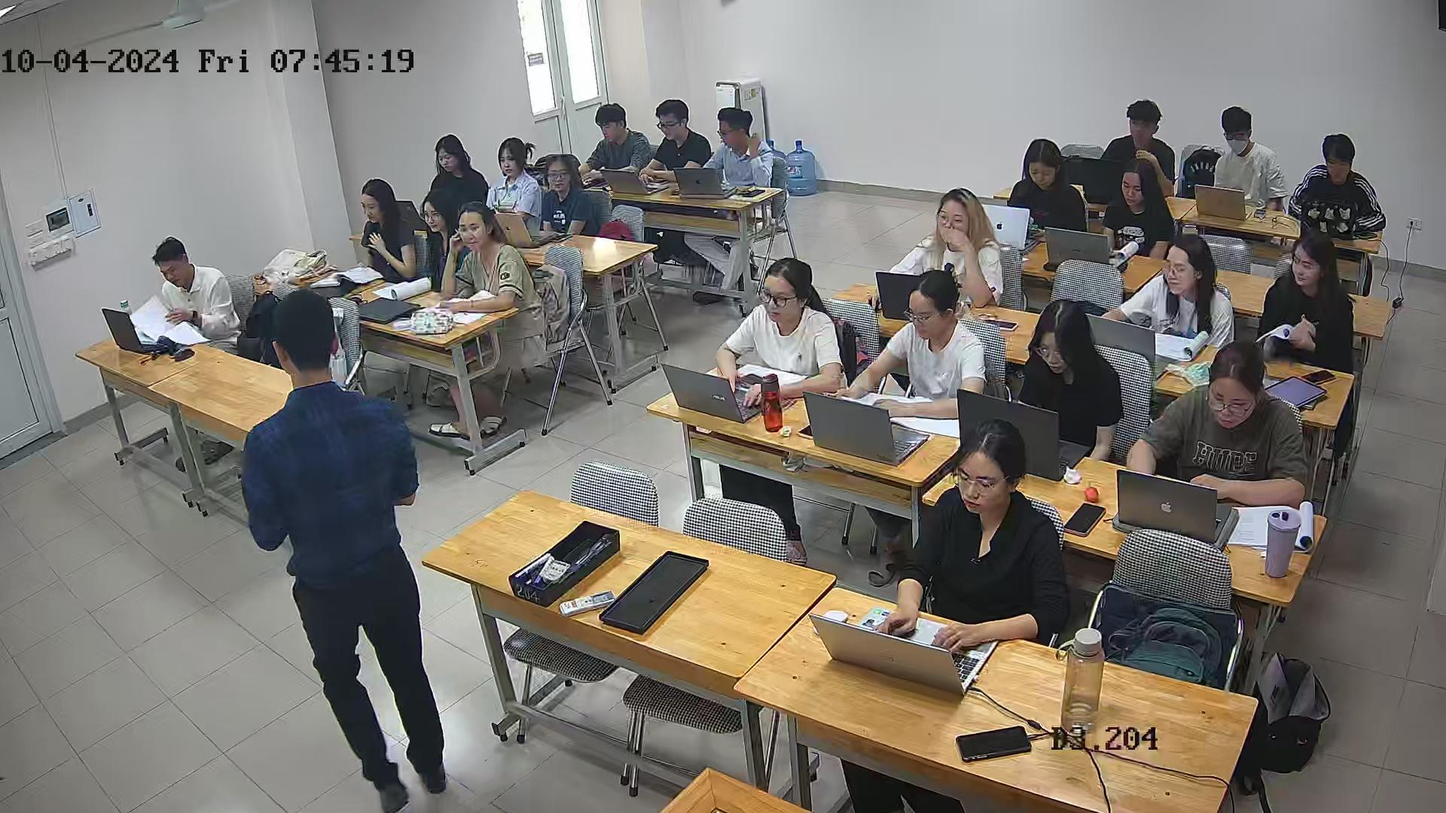Stand Up: (250, 306, 464, 807)
